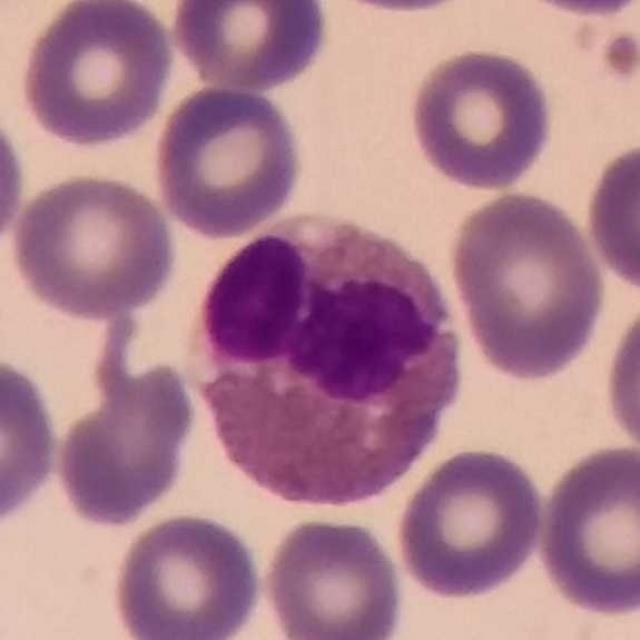Eosinophil: (177, 205, 472, 528)
Platelets: (599, 29, 639, 87)
RBC: (444, 186, 611, 384), (7, 169, 180, 321), (51, 358, 200, 531), (392, 442, 550, 603), (150, 82, 306, 240), (15, 0, 179, 150), (406, 44, 557, 192), (108, 509, 266, 639), (533, 441, 640, 620), (260, 513, 408, 640), (167, 0, 334, 93), (0, 350, 63, 534), (582, 136, 640, 298), (599, 290, 640, 466), (0, 102, 29, 263), (306, 0, 494, 17), (505, 0, 640, 19)
